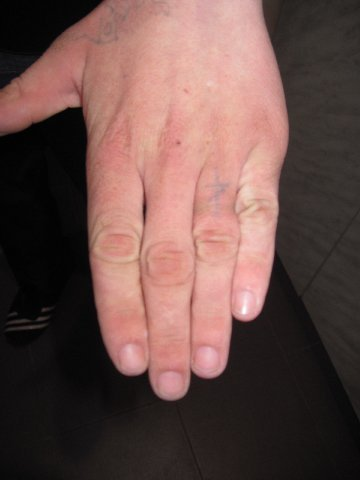tatu9_krest: (206, 175, 228, 212)
